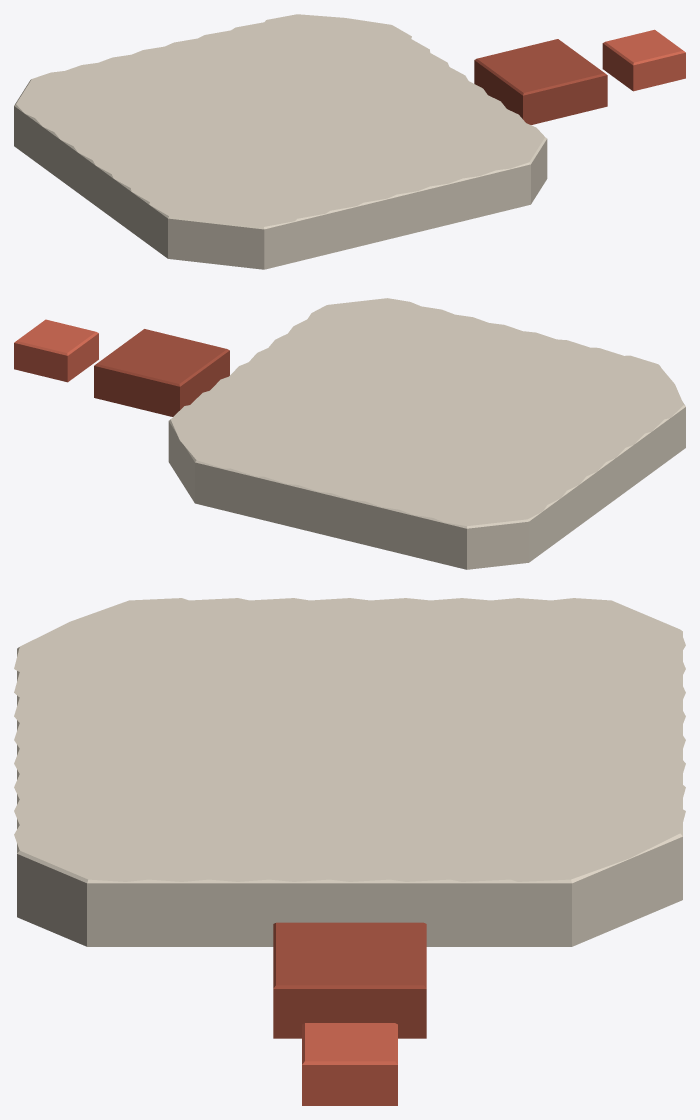
Rendered from mahsulot.glb.
The picture shows the model from 3 angles, top to bottom: view 1: azimuth 30°, elevation 25°; view 2: azimuth 150°, elevation 25°; view 3: azimuth 270°, elevation 25°; orthographic projection. The views are drawn at different scales.
Parts seen in each view (by area): view 1: mahsulot_A, mahsulot_B, mahsulot_V; view 2: mahsulot_A, mahsulot_B, mahsulot_V; view 3: mahsulot_A, mahsulot_B, mahsulot_V.
Boxes of the visible parts, x1=… form: mahsulot_A: x1=14, y1=14, x2=547, y2=269; mahsulot_B: x1=474, y1=39, x2=607, y2=124; mahsulot_V: x1=602, y1=29, x2=685, y2=91; mahsulot_A: x1=168, y1=298, x2=685, y2=569; mahsulot_B: x1=94, y1=329, x2=229, y2=416; mahsulot_V: x1=14, y1=319, x2=98, y2=382; mahsulot_A: x1=14, y1=598, x2=685, y2=946; mahsulot_B: x1=273, y1=922, x2=426, y2=1038; mahsulot_V: x1=302, y1=1023, x2=397, y2=1105.
Bounding box in the file's own units: 0.5445 × 0.038 × 0.35.
